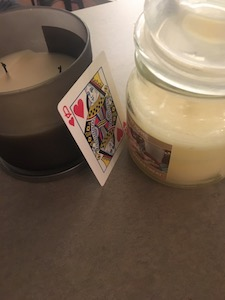QueenOfHearts: (53, 48, 136, 187)
